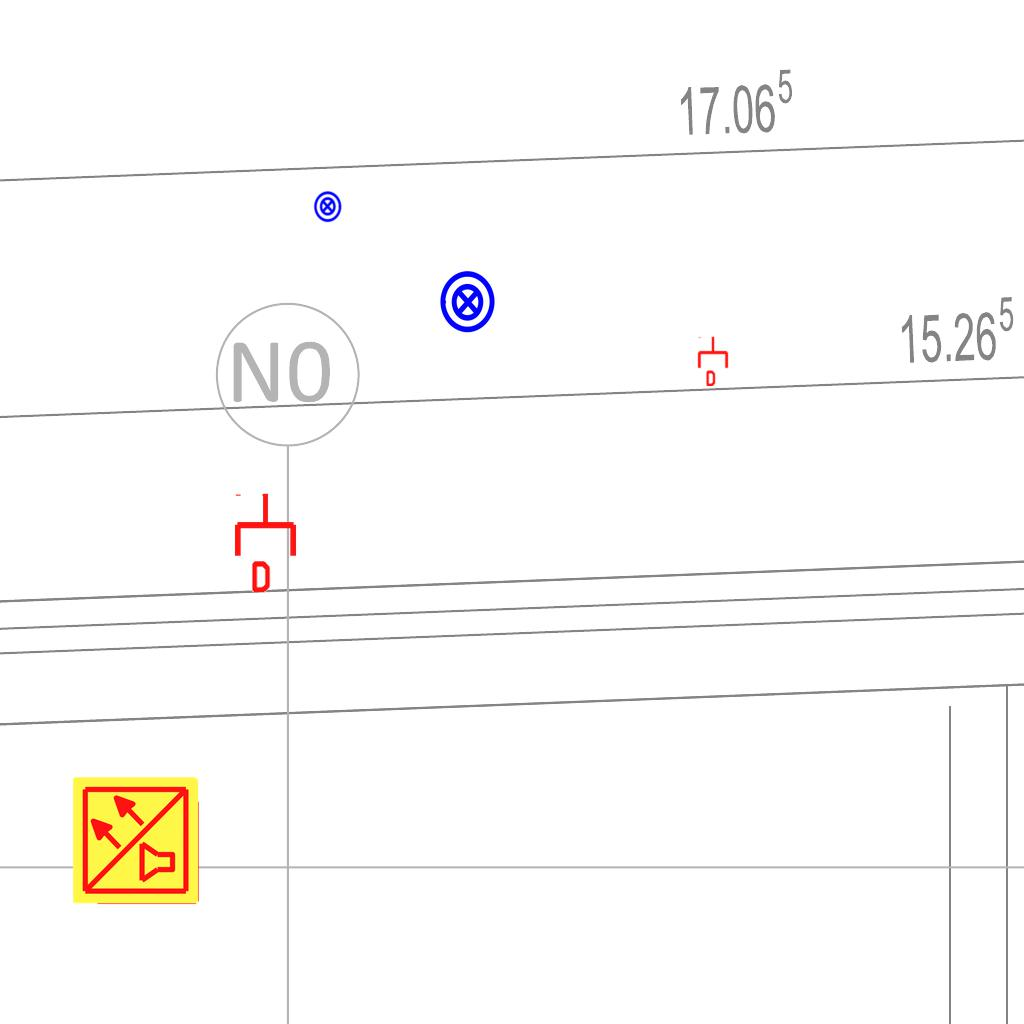Datenanschluss_einfach: (231, 492, 300, 592), (696, 336, 730, 386)
OKW_Multisensormelder_(Kombination_optischer_Rauch-Kahlenmonoxid_Waerme-Melder): (70, 774, 202, 906)
Taster_beleuchtet: (435, 269, 501, 335), (311, 190, 344, 223)
